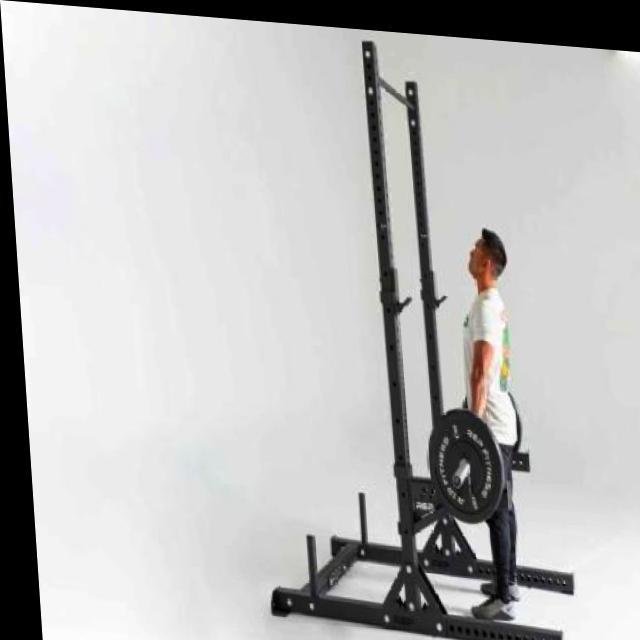barbell: (418, 396, 505, 523)
